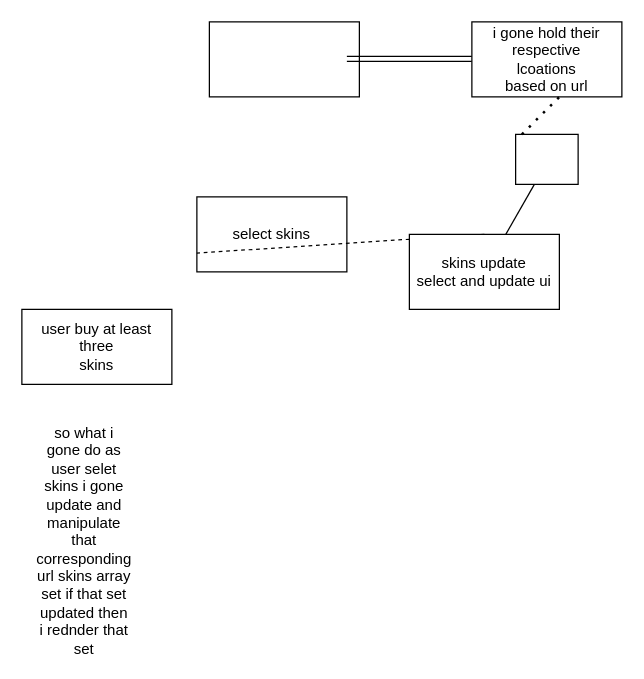
The diagram is 644 pixels wide and 679 high, and some of its shapes have lost their labels. The shapes that lost their labels are listed below. From the top down, each one's centre as x and y in pixels, then its label:
At (283,59): "so i have three skins".
At (546,158): "Array".
